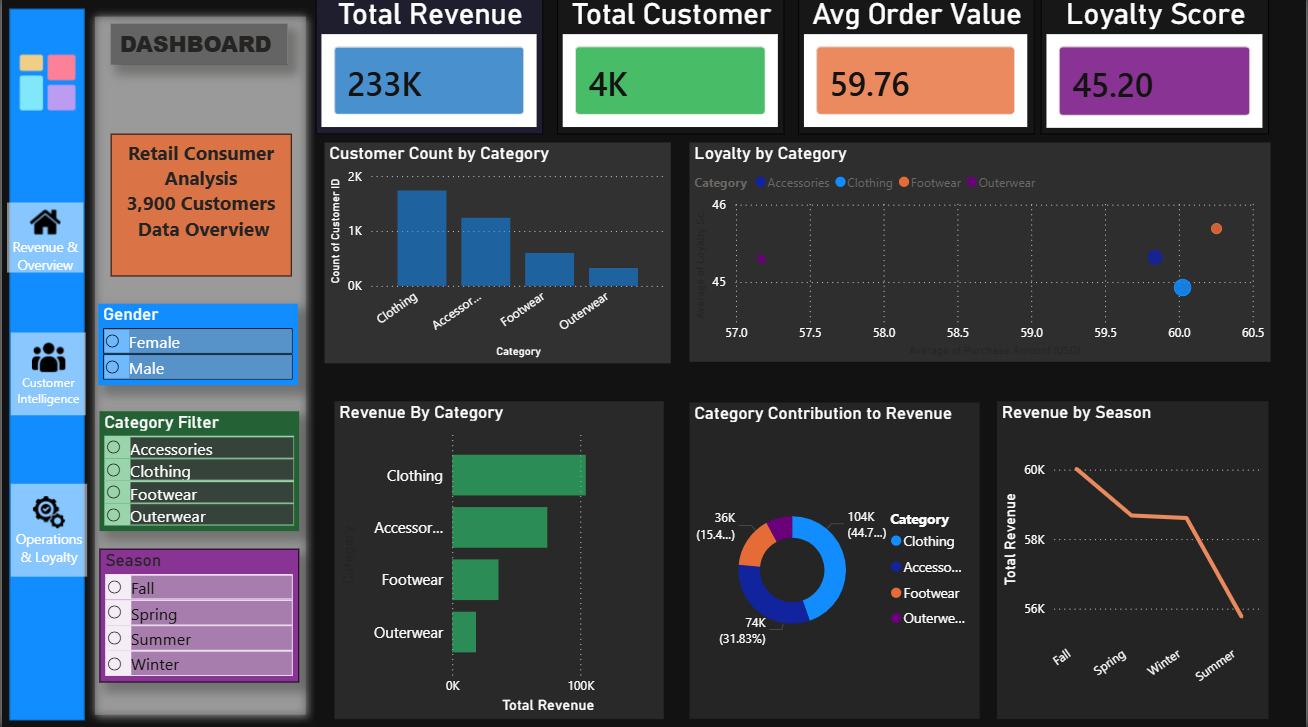

The dashboard page shown, as its layout file describes it:
{"tool":"powerbi","page":{"name":"Page 1","canvas":[1280,720],"ordinal":0},"visuals":[{"type":"clusteredBarChart","title":"Revenue By Category ","fields":{"Y":["shopping.Total Revenue"],"Category":["shopping.Category"]},"box":[326.7,398.3,323.3,311.7],"z":0},{"type":"shape","box":[81.7,11.7,225,703.3],"z":1000},{"type":"textbox","box":[106.2,28.8,173.8,40],"z":2000},{"type":"cardVisual","title":"Total Revenue ","fields":{"Data":["shopping.Total Revenue"]},"box":[308.3,0,223.3,136.7],"z":3000},{"type":"cardVisual","title":"Total Customer ","fields":{"Data":["shopping.Total Customers"]},"box":[545,0,223.3,136.7],"z":4000},{"type":"cardVisual","title":"Avg Order Value ","fields":{"Data":["shopping.Avg Order Value"]},"box":[781.7,0,231.7,136.7],"z":5000},{"type":"cardVisual","title":"Loyalty Score ","fields":{"Data":["Avg(shopping.Loyalty Score)"]},"box":[1020,0,224.3,137.1],"z":6000},{"type":"scatterChart","title":" Loyalty by Category","fields":{"Series":["shopping.Category"],"Size":["Count(shopping.Customer ID)"],"Y":["Avg(shopping.Loyalty Score)"],"X":["shopping.Purchase Amount (USD)"]},"box":[675,145,570,215],"z":7000},{"type":"clusteredColumnChart","title":" Customer Count  by Category","fields":{"Category":["shopping.Category"],"Y":["Count(shopping.Customer ID)"]},"box":[316.7,145,340,216.7],"z":8000},{"type":"lineChart","title":" Revenue by Season","fields":{"Category":["shopping.Season"],"Y":["shopping.Total Revenue"]},"box":[976.7,398.3,266.7,311.7],"z":9000},{"type":"shape","box":[7.5,13.8,73.8,698.8],"z":10000},{"type":"listSlicer","title":"Category Filter","fields":{"Values":["shopping.Category"]},"box":[96.2,408.8,196.2,117.5],"z":11000},{"type":"listSlicer","fields":{"Values":["shopping.Gender"]},"box":[95,302.5,196.2,80],"z":12000},{"type":"listSlicer","fields":{"Values":["shopping.Season"]},"box":[96.2,543.8,196.2,131.2],"z":13000},{"type":"donutChart","title":"Category Contribution to Revenue","fields":{"Category":["shopping.Category"],"Y":["Sum(shopping.Purchase Amount (USD))"]},"box":[675,400,285,310],"z":14000},{"type":"actionButton","box":[5,203.8,75,68.8],"z":15000},{"type":"actionButton","box":[8.8,331.2,73.8,81.2],"z":16000},{"type":"actionButton","box":[8.8,480,75,91.2],"z":17000},{"type":"actionButton","box":[12.5,47.5,65,76.2],"z":17001},{"type":"textbox","box":[106.2,136.2,177.5,140],"z":17003}]}

Visuals, with their boxes in screenshot pixels (x1, y1, x2, y2), scaled from the page's 1280x720 canvas onto the 1308x727 screenshot:
"Revenue By Category " clusteredBarChart: pyautogui.locateOnScreen(334, 402, 664, 717)
shape: pyautogui.locateOnScreen(83, 12, 313, 722)
textbox: pyautogui.locateOnScreen(109, 29, 286, 69)
"Total Revenue " cardVisual: pyautogui.locateOnScreen(315, 0, 543, 138)
"Total Customer " cardVisual: pyautogui.locateOnScreen(557, 0, 785, 138)
"Avg Order Value " cardVisual: pyautogui.locateOnScreen(799, 0, 1036, 138)
"Loyalty Score " cardVisual: pyautogui.locateOnScreen(1042, 0, 1272, 138)
" Loyalty by Category" scatterChart: pyautogui.locateOnScreen(690, 146, 1272, 364)
" Customer Count  by Category" clusteredColumnChart: pyautogui.locateOnScreen(324, 146, 671, 365)
" Revenue by Season" lineChart: pyautogui.locateOnScreen(998, 402, 1271, 717)
shape: pyautogui.locateOnScreen(8, 14, 83, 720)
"Category Filter" listSlicer: pyautogui.locateOnScreen(98, 413, 299, 531)
listSlicer - shopping.Gender: pyautogui.locateOnScreen(97, 305, 298, 386)
listSlicer - shopping.Season: pyautogui.locateOnScreen(98, 549, 299, 682)
"Category Contribution to Revenue" donutChart: pyautogui.locateOnScreen(690, 404, 981, 717)
actionButton: pyautogui.locateOnScreen(5, 206, 82, 275)
actionButton: pyautogui.locateOnScreen(9, 334, 84, 416)
actionButton: pyautogui.locateOnScreen(9, 485, 86, 577)
actionButton: pyautogui.locateOnScreen(13, 48, 79, 125)
textbox: pyautogui.locateOnScreen(109, 138, 290, 279)
